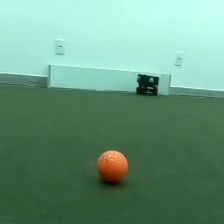ball: (94, 146, 130, 185)
goal: (46, 63, 172, 96)
robot: (135, 72, 160, 97)
